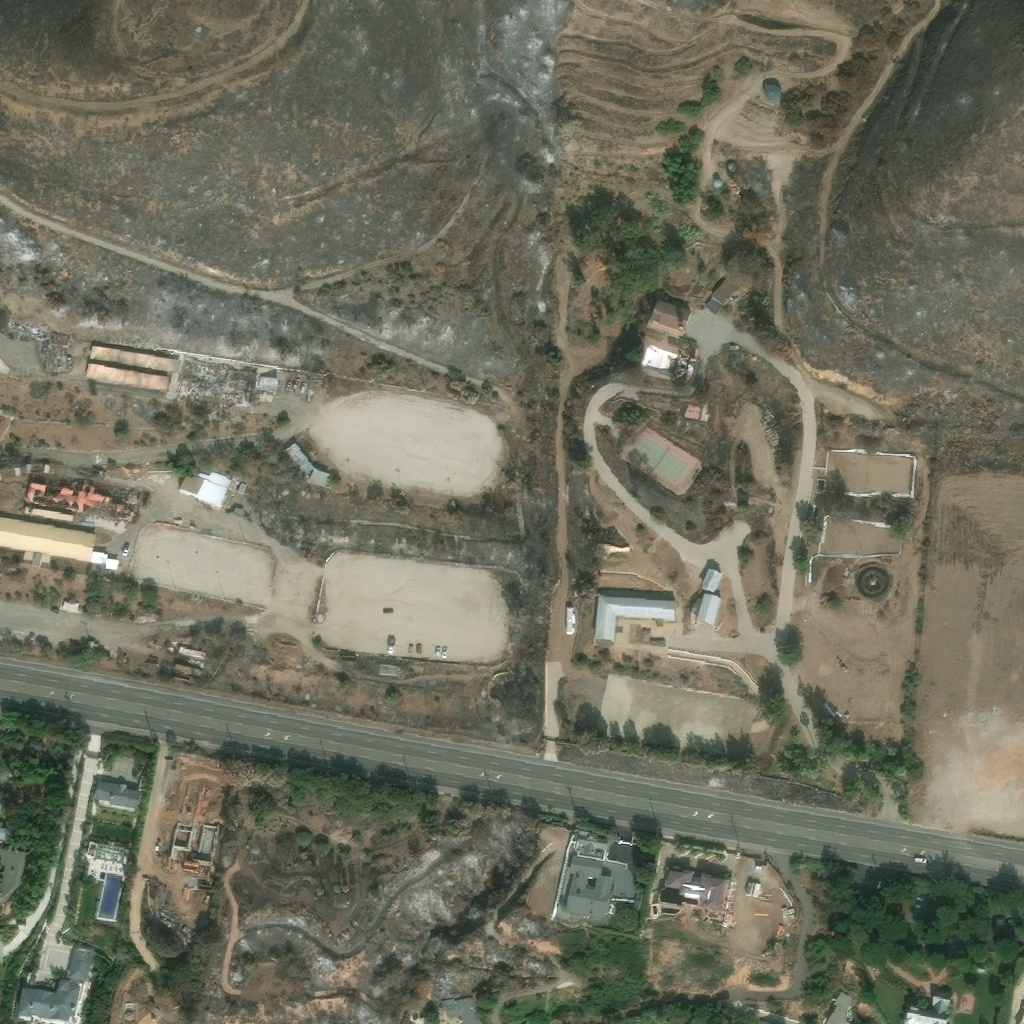0 no-damage: (563, 830, 650, 919), (0, 515, 119, 571), (14, 944, 94, 1023), (593, 592, 676, 642), (660, 868, 726, 912), (280, 439, 331, 488), (179, 470, 231, 508), (901, 987, 951, 1023), (648, 298, 692, 335), (91, 780, 140, 811), (0, 848, 27, 904), (86, 840, 130, 871), (704, 278, 737, 315), (441, 994, 482, 1023), (824, 988, 853, 1023), (696, 593, 720, 626), (700, 567, 723, 593), (761, 83, 781, 103), (59, 599, 82, 613), (744, 879, 760, 898), (27, 736, 43, 752), (724, 162, 736, 173), (0, 826, 7, 841), (711, 178, 721, 188), (124, 1001, 134, 1010)
1 minor-damage: (84, 344, 182, 391), (682, 403, 709, 422), (596, 543, 629, 557)
3 destroyed: (22, 473, 138, 521), (177, 357, 278, 405), (668, 351, 697, 381), (9, 319, 47, 338), (152, 907, 180, 927), (45, 345, 62, 370), (183, 887, 196, 902), (64, 355, 73, 367)
